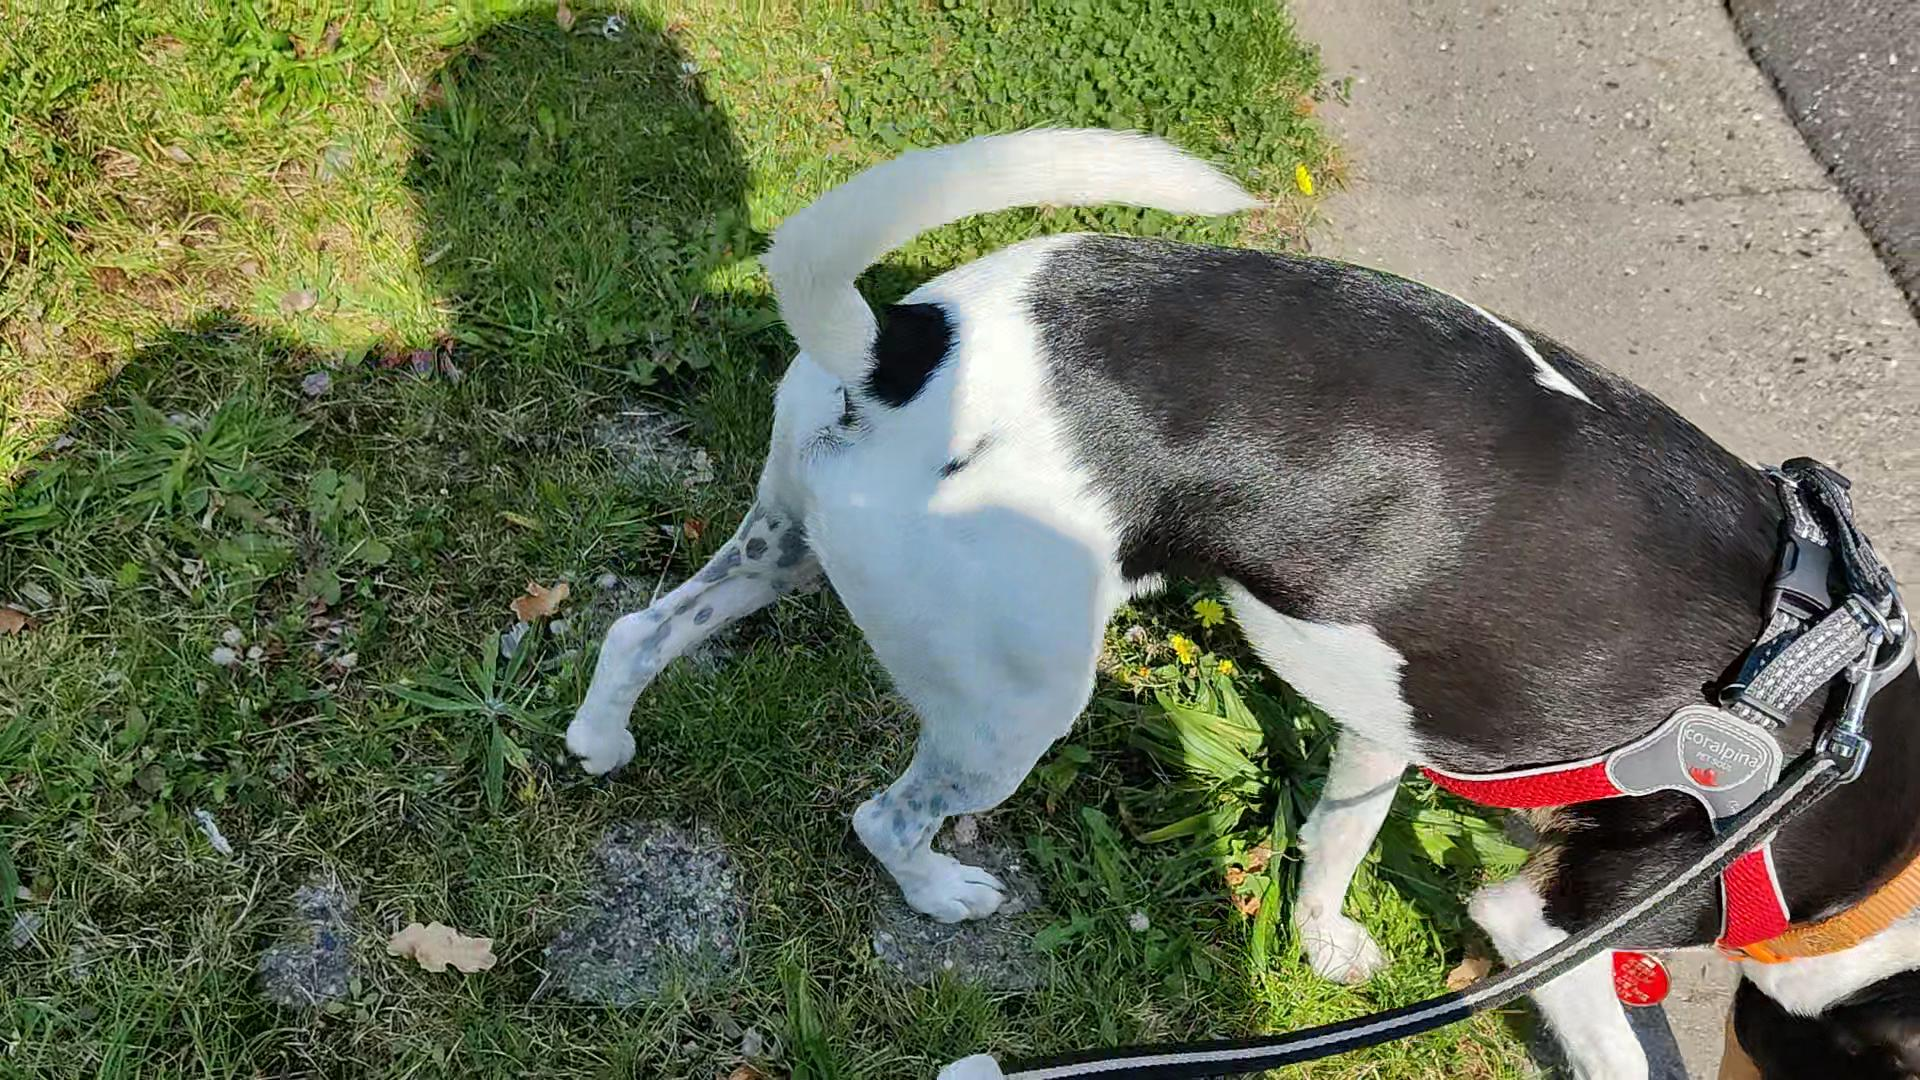Dog: (562, 113, 1919, 1079)
